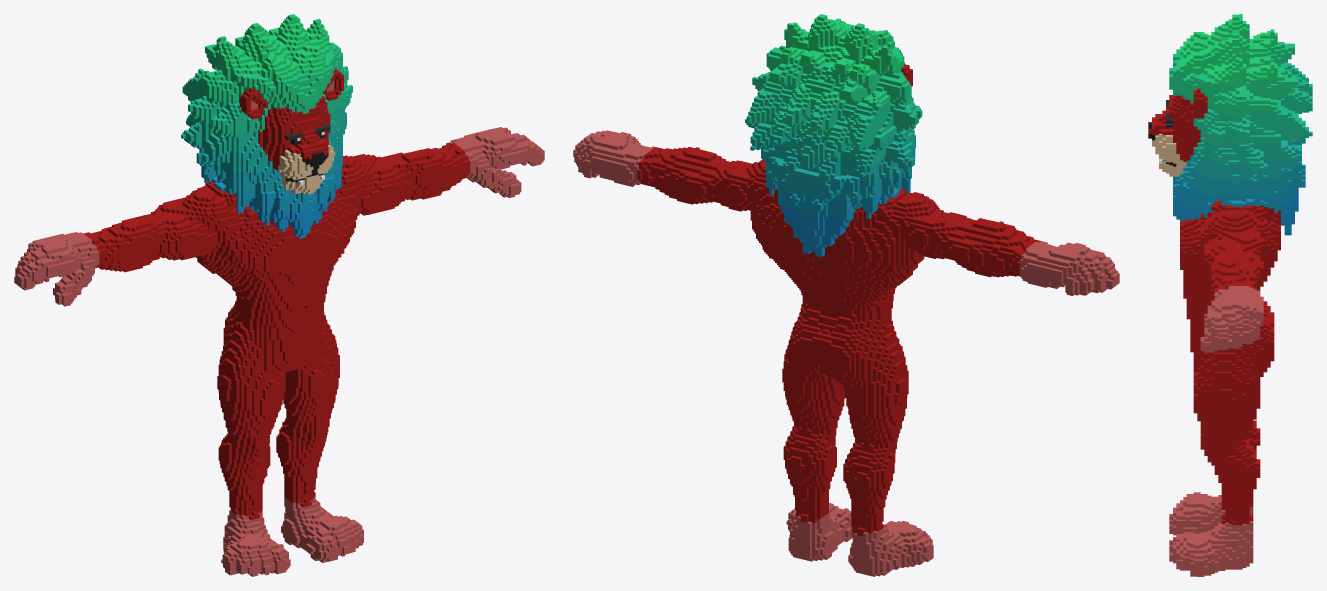
Rendered from 952-CLXSpnAN.glb.
3 views of the same model, side by side, from view 1: azimuth 30°, elevation 25°; view 2: azimuth 150°, elevation 25°; view 3: azimuth 270°, elevation 25° (orthographic). The views are drawn at different scales.
Parts seen in each view (by area): view 1: standard; view 2: standard; view 3: standard.
Boxes of the visible parts, <box> form: standard: <box>14,14,544,576</box>; standard: <box>573,14,1119,576</box>; standard: <box>1148,14,1312,576</box>.
Bounding box in the file's own units: 17.2 × 16.5 × 4.7.
Materials: 4 (4 with a texture image).
